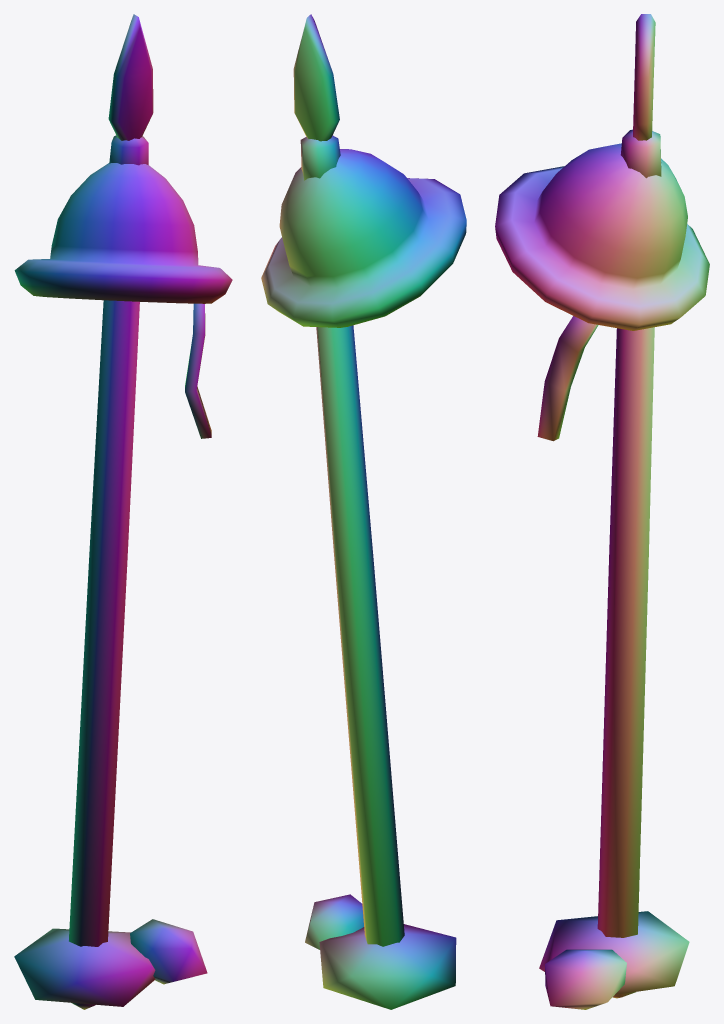
The model's file is SM_Prop_March_HelmetStake_A_LOD1.fbx.
3 views of the same model, side by side, from view 1: azimuth 30°, elevation 25°; view 2: azimuth 150°, elevation 25°; view 3: azimuth 270°, elevation 25° (orthographic). The views are drawn at different scales.
Visible parts, largest first — view 1: SM_Prop_March_HelmetStake_A_LOD1; view 2: SM_Prop_March_HelmetStake_A_LOD1; view 3: SM_Prop_March_HelmetStake_A_LOD1.
Boxes of the visible parts, box(x1,y1,x2,y2) form: SM_Prop_March_HelmetStake_A_LOD1: box(14, 14, 232, 1009); SM_Prop_March_HelmetStake_A_LOD1: box(261, 14, 466, 1009); SM_Prop_March_HelmetStake_A_LOD1: box(495, 14, 709, 1009).
Bounding box in the file's own units: 0.4123 × 2.08 × 0.3971.
